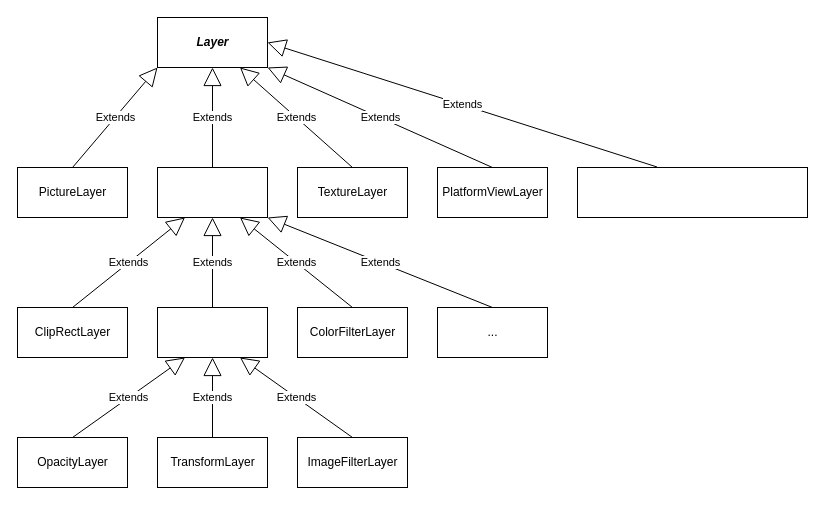
The diagram is 825 pixels wide and 505 high, and some of its shapes have lost their labels. Here are the shapes that lost their labels. From the top down, the centre of each, then its label:
(x=212, y=192): ContainerLayer
(x=692, y=192): PerformanceOverlayLayer
(x=212, y=332): OffsetLayer
